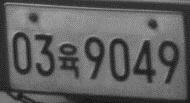0: (107, 37, 131, 81), (11, 31, 32, 74)
3: (33, 32, 55, 78)
4: (131, 38, 157, 85)
9: (83, 35, 106, 80), (158, 39, 180, 86)
육: (56, 41, 81, 81)
